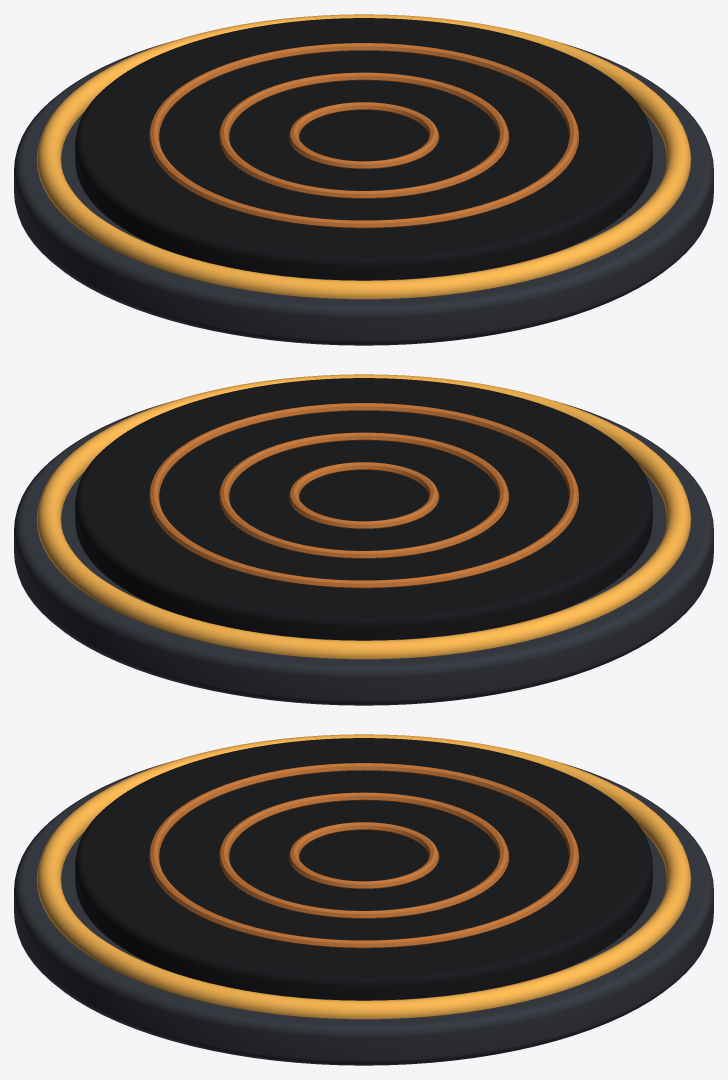
The model's file is plate.glb.
The picture shows the model from 3 angles, top to bottom: view 1: azimuth 30°, elevation 25°; view 2: azimuth 150°, elevation 25°; view 3: azimuth 270°, elevation 25°; orthographic projection.
Visible parts, largest first — view 1: plate; view 2: plate; view 3: plate.
Boxes of the visible parts, left/top/right/bottom form: plate: left=14, top=14, right=713, bottom=345; plate: left=14, top=374, right=713, bottom=705; plate: left=14, top=734, right=713, bottom=1065.
Bounding box in the file's own units: 0.8 × 0.087 × 0.8.
